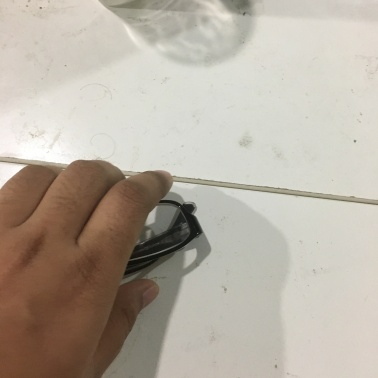glasses: (49, 202, 204, 272)
